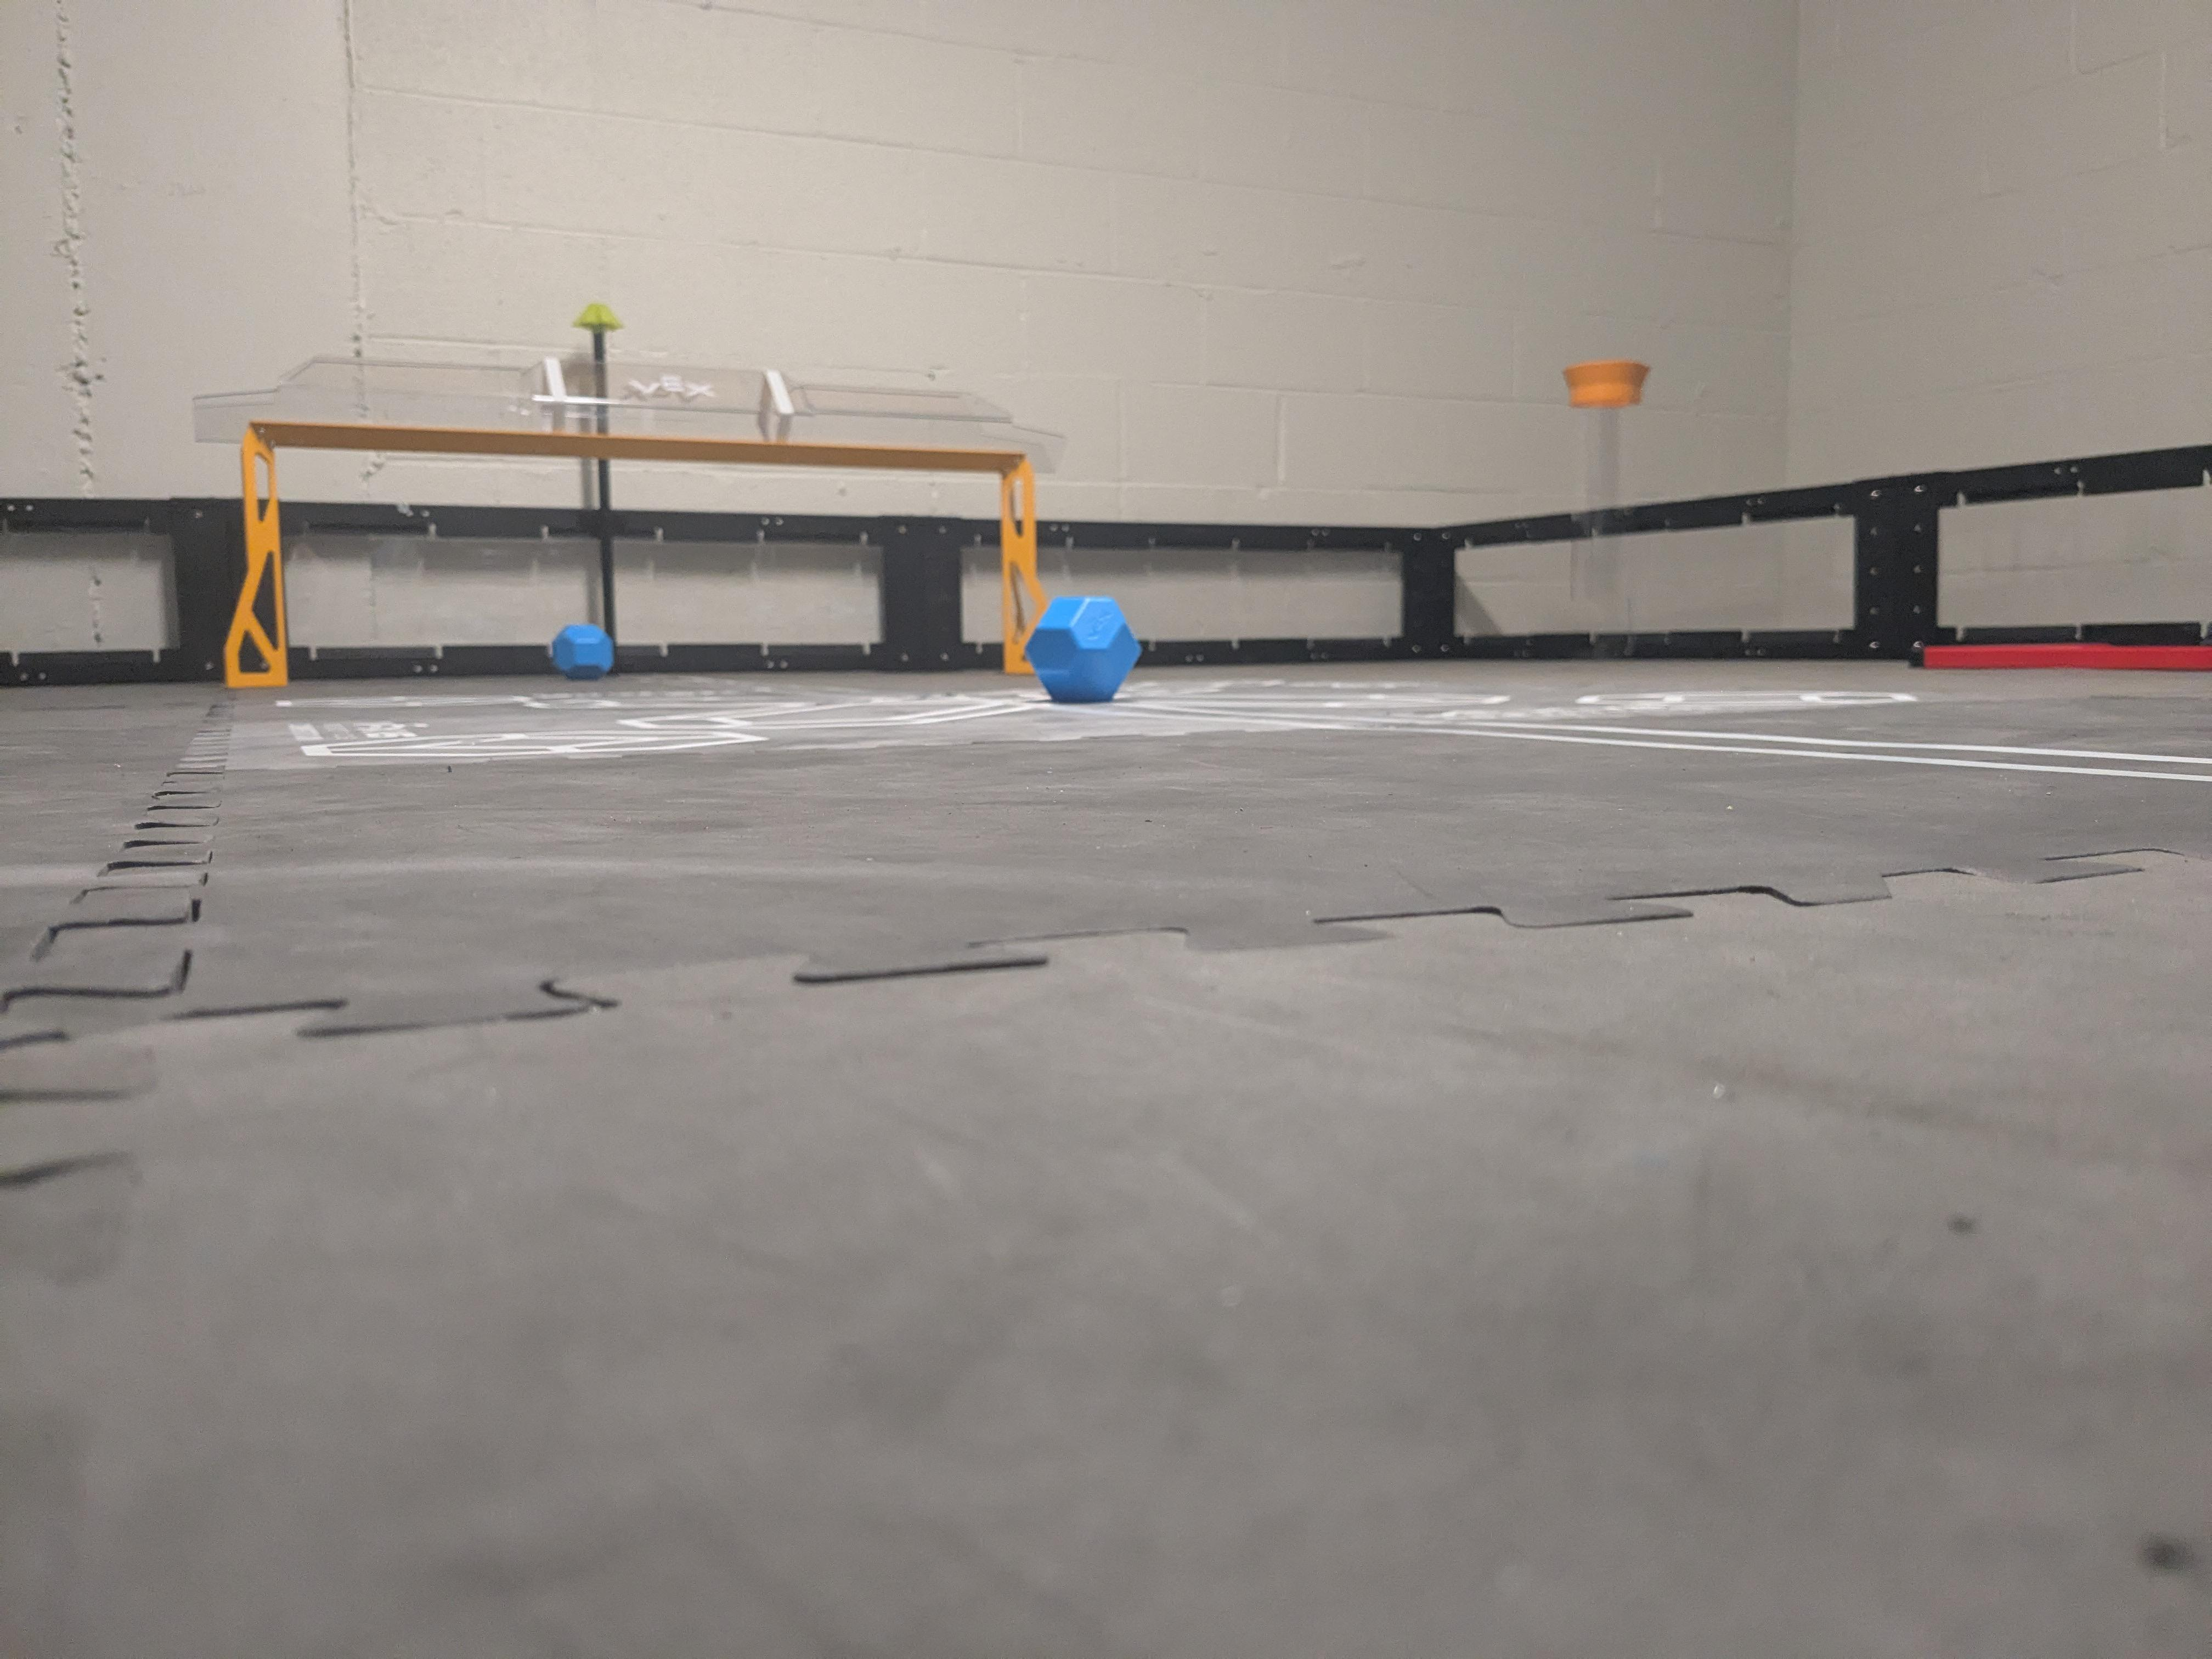Vex-Pieces-BLUE: (1029, 598, 1137, 702), (554, 627, 608, 678)
